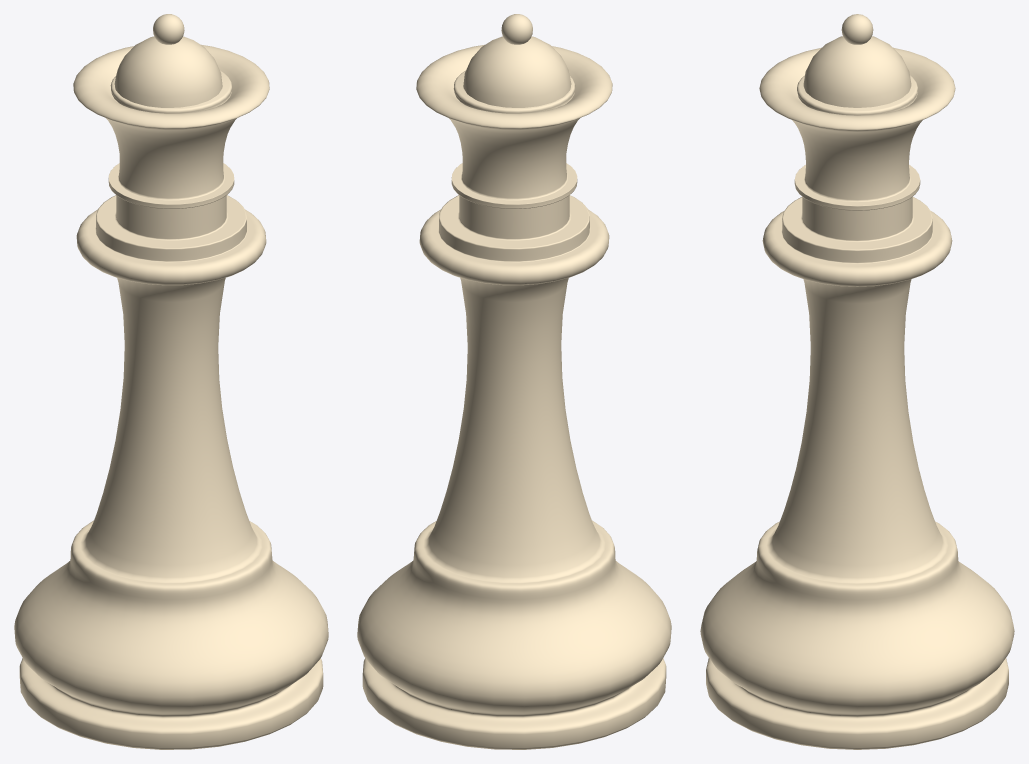
The model's file is Queen.fbx.
3 views of the same model, side by side, from view 1: azimuth 30°, elevation 25°; view 2: azimuth 150°, elevation 25°; view 3: azimuth 270°, elevation 25° (orthographic).
Visible parts, largest first — view 1: Queen; view 2: Queen; view 3: Queen.
Part boxes in pixels (bbox=[...]): Queen: bbox=[14, 14, 328, 749]; Queen: bbox=[357, 14, 671, 749]; Queen: bbox=[700, 14, 1014, 749].
Bounding box in the file's own units: 62.7 × 149 × 62.7.
